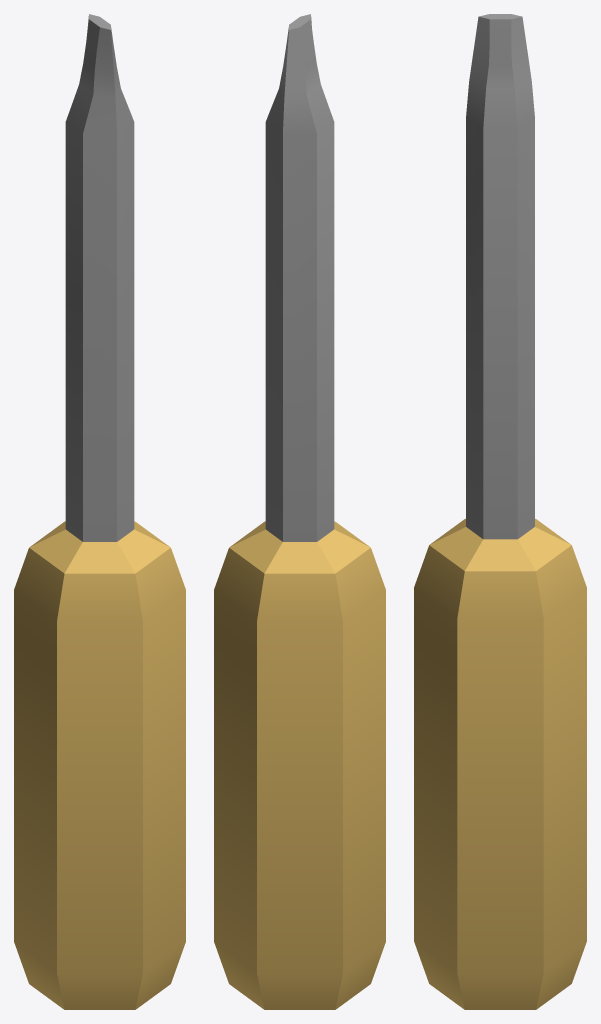
File: screwdriver.fbx
3 views of the same model, side by side, from view 1: azimuth 30°, elevation 25°; view 2: azimuth 150°, elevation 25°; view 3: azimuth 270°, elevation 25° (orthographic).
Parts seen in each view (by area): view 1: screwdriver; view 2: screwdriver; view 3: screwdriver.
Boxes of the visible parts, bbox=[...] form: screwdriver: bbox=[14, 14, 185, 1009]; screwdriver: bbox=[214, 14, 385, 1009]; screwdriver: bbox=[414, 14, 586, 1009].
Size of the model in its own units: 16.72 by 119 by 19.31.
